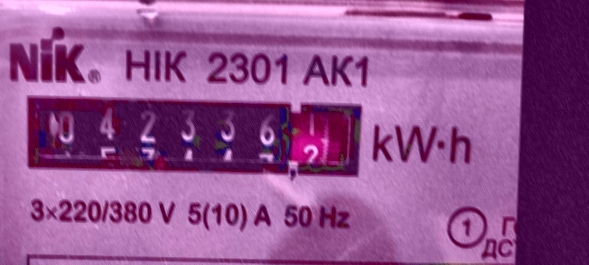0: (53, 108, 75, 144)
1: (302, 108, 316, 138)
2: (134, 107, 156, 144), (298, 142, 318, 164)
3: (175, 105, 196, 143), (214, 106, 235, 143)
4: (95, 103, 115, 141)
6: (252, 110, 276, 146)
screen: (14, 82, 369, 188)
